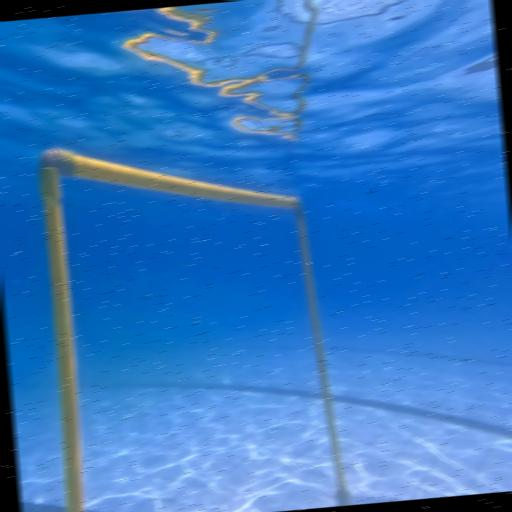gate: (35, 121, 394, 512)
